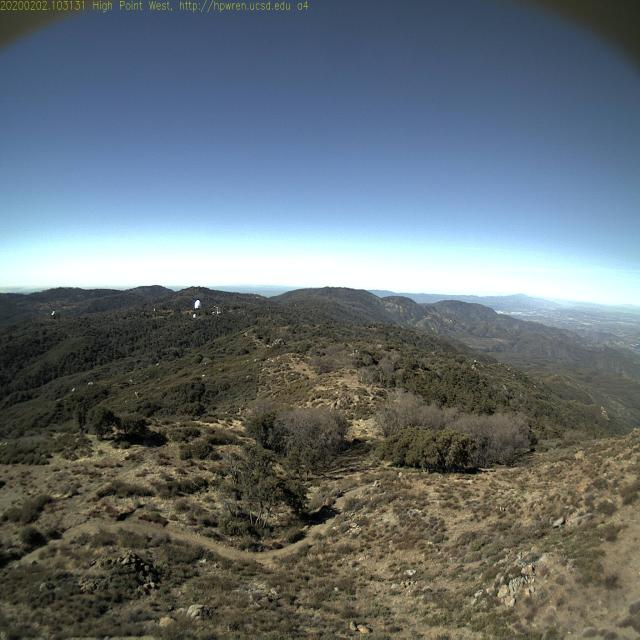smoke: (116, 304, 130, 310)
